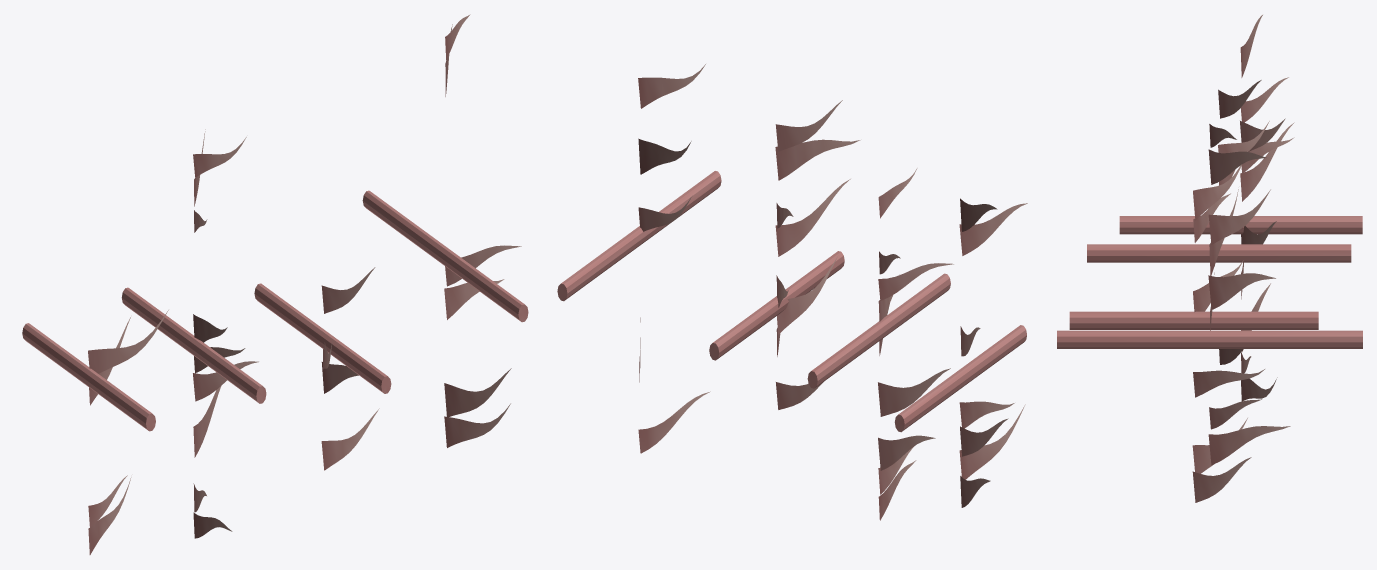
Rendered from mesh-plant-047-ladderweed_LOD0.glb.
The picture shows the model from 3 angles, left to right: view 1: azimuth 30°, elevation 25°; view 2: azimuth 150°, elevation 25°; view 3: azimuth 270°, elevation 25°; orthographic projection.
Visible parts, largest first — view 1: geometry_0; view 2: geometry_0; view 3: geometry_0.
Part boxes in pixels (x1,y1,x2,y2): geometry_0: (22, 14, 528, 554); geometry_0: (557, 64, 1027, 520); geometry_0: (1057, 15, 1362, 502).
Size of the model in its own units: 1.77 by 1.71 by 1.06.
